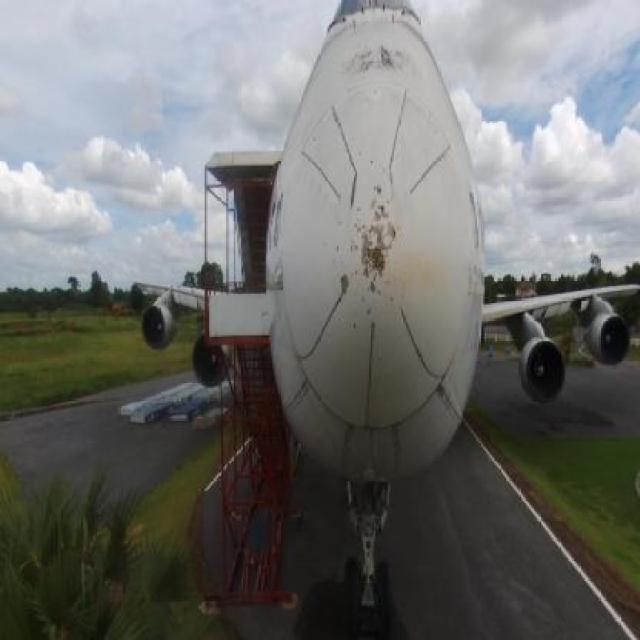Rust: (346, 35, 417, 90), (402, 244, 451, 301), (368, 247, 390, 281)
Scartch: (359, 210, 407, 304), (327, 263, 358, 312), (272, 259, 293, 301)
